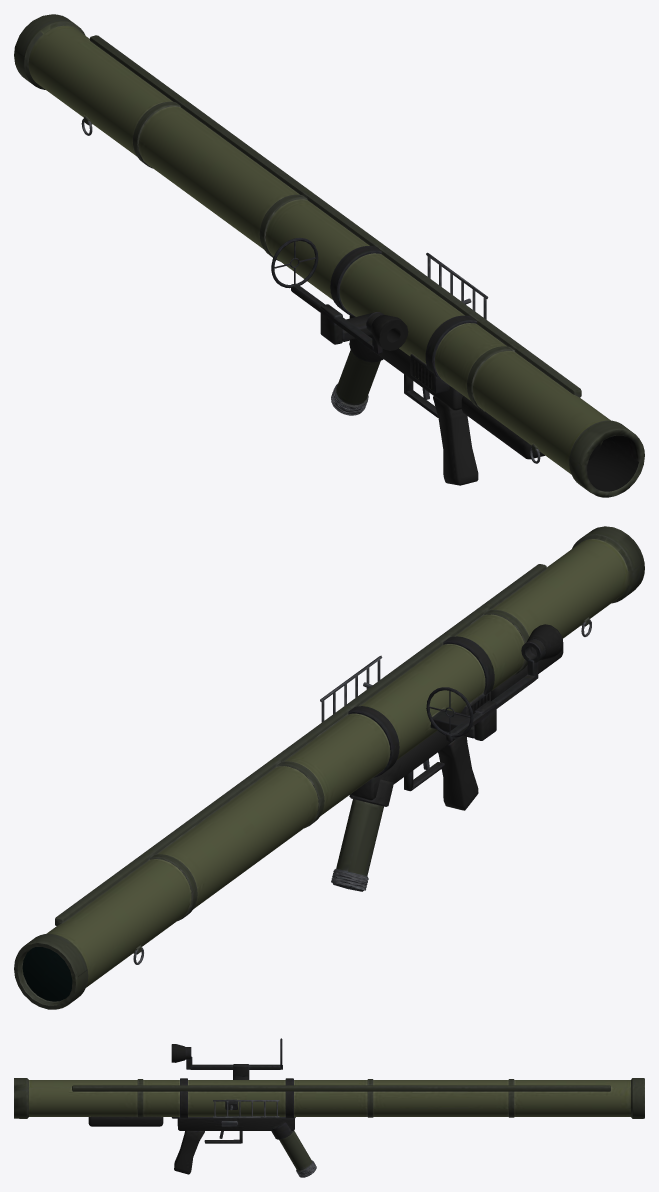
The model's file is aa_launcher.glb.
The picture shows the model from 3 angles, top to bottom: view 1: azimuth 30°, elevation 25°; view 2: azimuth 150°, elevation 25°; view 3: azimuth 270°, elevation 25°; orthographic projection. The views are drawn at different scales.
Parts seen in each view (by area): view 1: AALauncher; view 2: AALauncher; view 3: AALauncher.
Part boxes in pixels (left/top/right/bottom): AALauncher: left=14, top=14, right=644, bottom=497; AALauncher: left=14, top=526, right=644, bottom=1009; AALauncher: left=14, top=1038, right=644, bottom=1177.
Bounding box in the file's own units: 0.2404 × 0.3072 × 1.52.
1 material, 1 textured.
